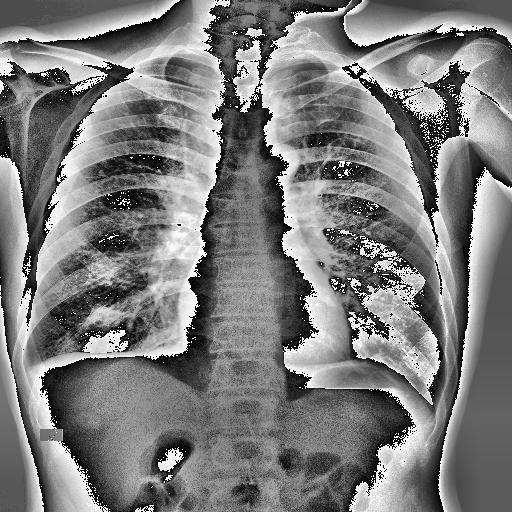10- Pleural effusion: (17, 358, 51, 388), (14, 362, 40, 388), (17, 348, 42, 375)
11- Pleural thickening: (17, 358, 51, 388), (14, 362, 40, 388), (17, 348, 42, 375)
